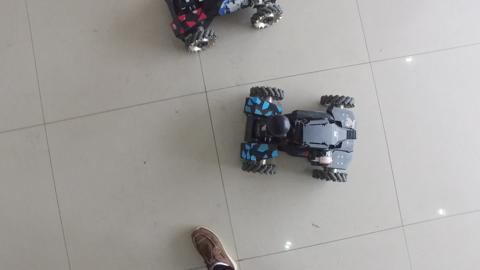chariot: (230, 81, 361, 192), (153, 1, 288, 59)
